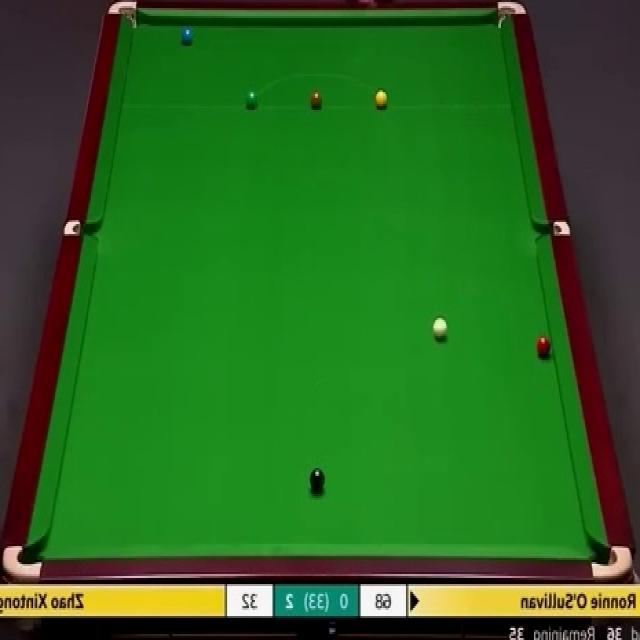black-ball: (309, 467, 325, 493)
blue-ball: (180, 27, 194, 46)
brown-ball: (310, 92, 323, 109)
green-ball: (244, 88, 258, 112)
red-ball: (535, 335, 551, 358)
white-ball: (434, 315, 448, 340)
yellow-ball: (374, 89, 388, 110)
